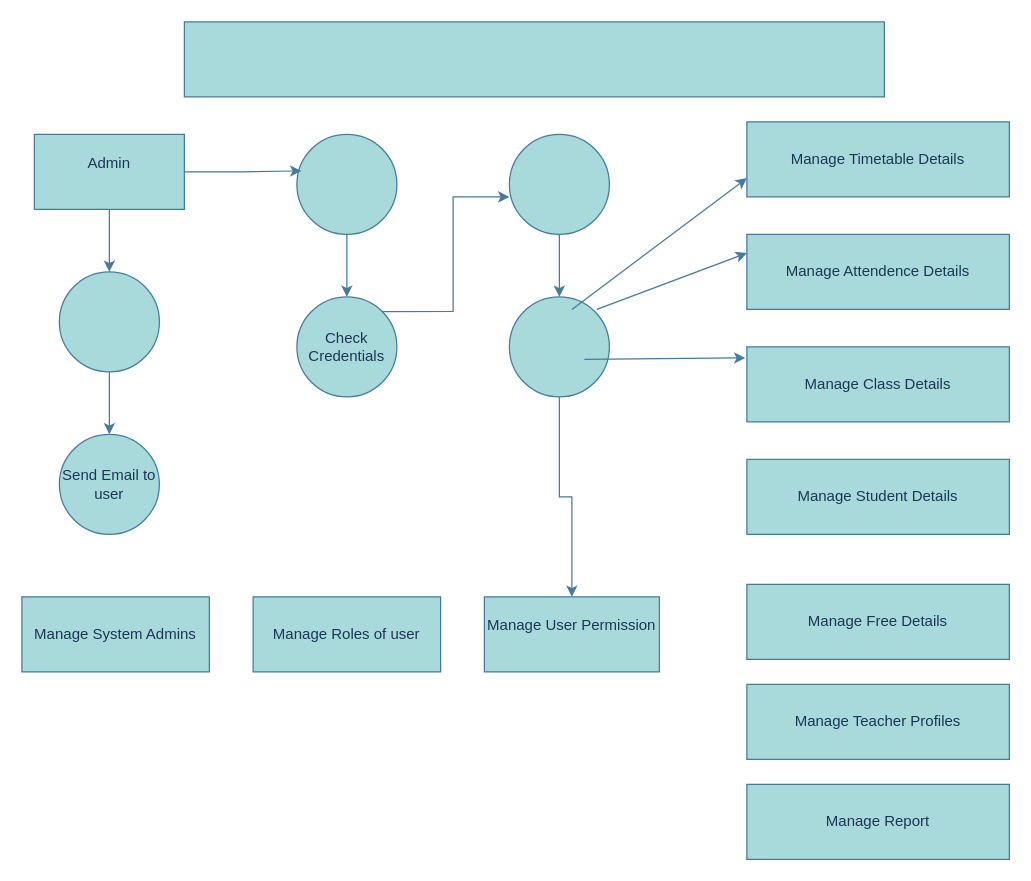
This 1031x881 diagram has some shape labels left out. The box of each missing label's shape, as (x1, y1, x2, y2) in pixels:
Check Roles of Access: (508, 133, 609, 234)
Forget Password: (58, 271, 159, 372)
Login to system: (296, 133, 397, 234)
Manage Modules: (508, 296, 609, 397)
Student Information System: (183, 21, 884, 97)
